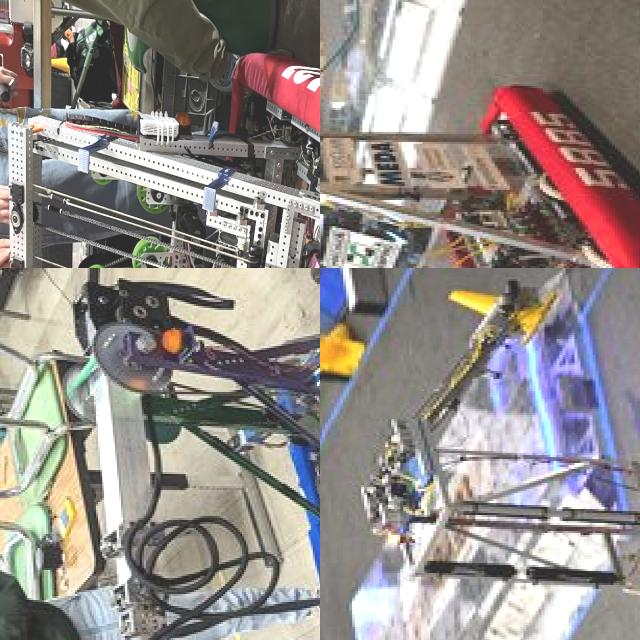FRC-Robots: (68, 268, 320, 640), (320, 361, 640, 612), (28, 40, 320, 268), (320, 80, 640, 268)
